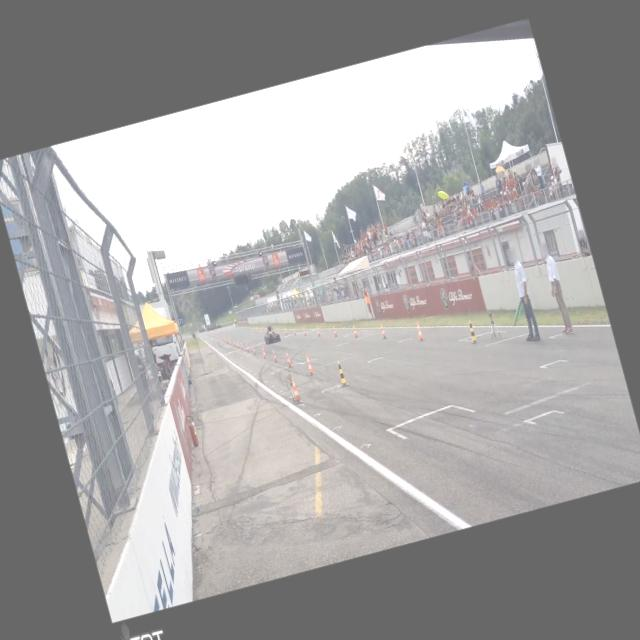large_orange_cone: (288, 377, 302, 404), (413, 320, 425, 340), (304, 354, 314, 375), (284, 349, 293, 368), (378, 322, 388, 339), (270, 347, 279, 362), (260, 344, 267, 360), (351, 324, 358, 338), (332, 325, 338, 338), (250, 343, 256, 356), (302, 326, 307, 336), (245, 342, 250, 352), (239, 341, 244, 350), (316, 326, 320, 336), (292, 326, 296, 336), (236, 341, 240, 348), (284, 328, 288, 335), (232, 338, 235, 346), (228, 338, 231, 345), (255, 328, 258, 333), (226, 337, 228, 344), (224, 337, 226, 343), (264, 328, 266, 334), (260, 328, 262, 334), (252, 327, 254, 332), (247, 327, 249, 332), (218, 334, 220, 339), (223, 338, 225, 342)
unknown_cone: (334, 359, 349, 387), (464, 318, 479, 344)
